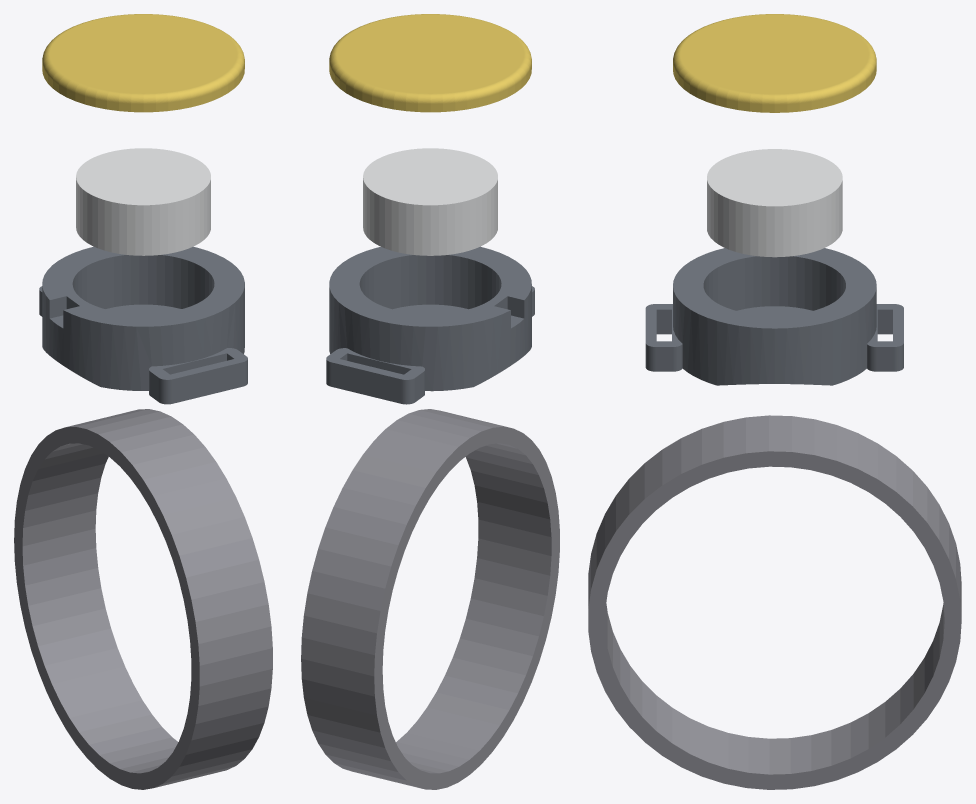
Rendered from motor_exploded.glb.
The picture shows the model from 3 angles, left to right: view 1: azimuth 30°, elevation 25°; view 2: azimuth 150°, elevation 25°; view 3: azimuth 270°, elevation 25°; orthographic projection.
Parts seen in each view (by area): view 1: 000_strap, 001_base, 003_lid, 002_lra; view 2: 000_strap, 001_base, 003_lid, 002_lra; view 3: 000_strap, 001_base, 003_lid, 002_lra.
Part boxes in pixels (x1,y1,x2,y2): 000_strap: (14,409,272,789); 001_base: (39,246,247,404); 003_lid: (42,14,244,112); 002_lra: (76,148,210,255); 000_strap: (301,409,559,789); 001_base: (326,246,534,404); 003_lid: (329,14,531,112); 002_lra: (363,148,497,255); 000_strap: (588,415,961,789); 001_base: (645,248,903,385); 003_lid: (673,14,876,112); 002_lra: (707,149,842,257).
Bounding box in the file's own units: 0.012 × 0.0466 × 0.022.
